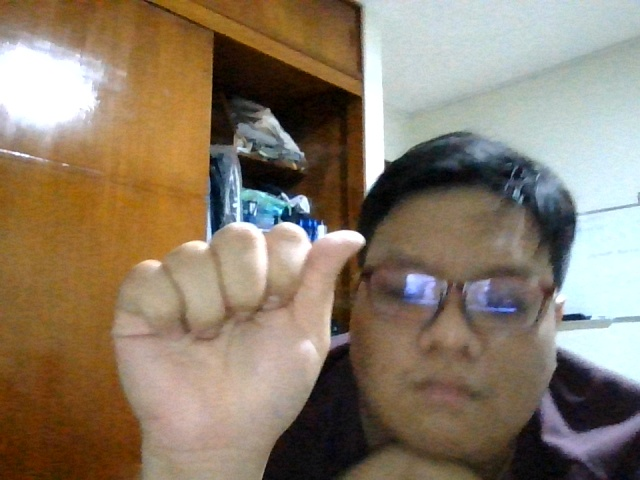a: (107, 220, 370, 439)
